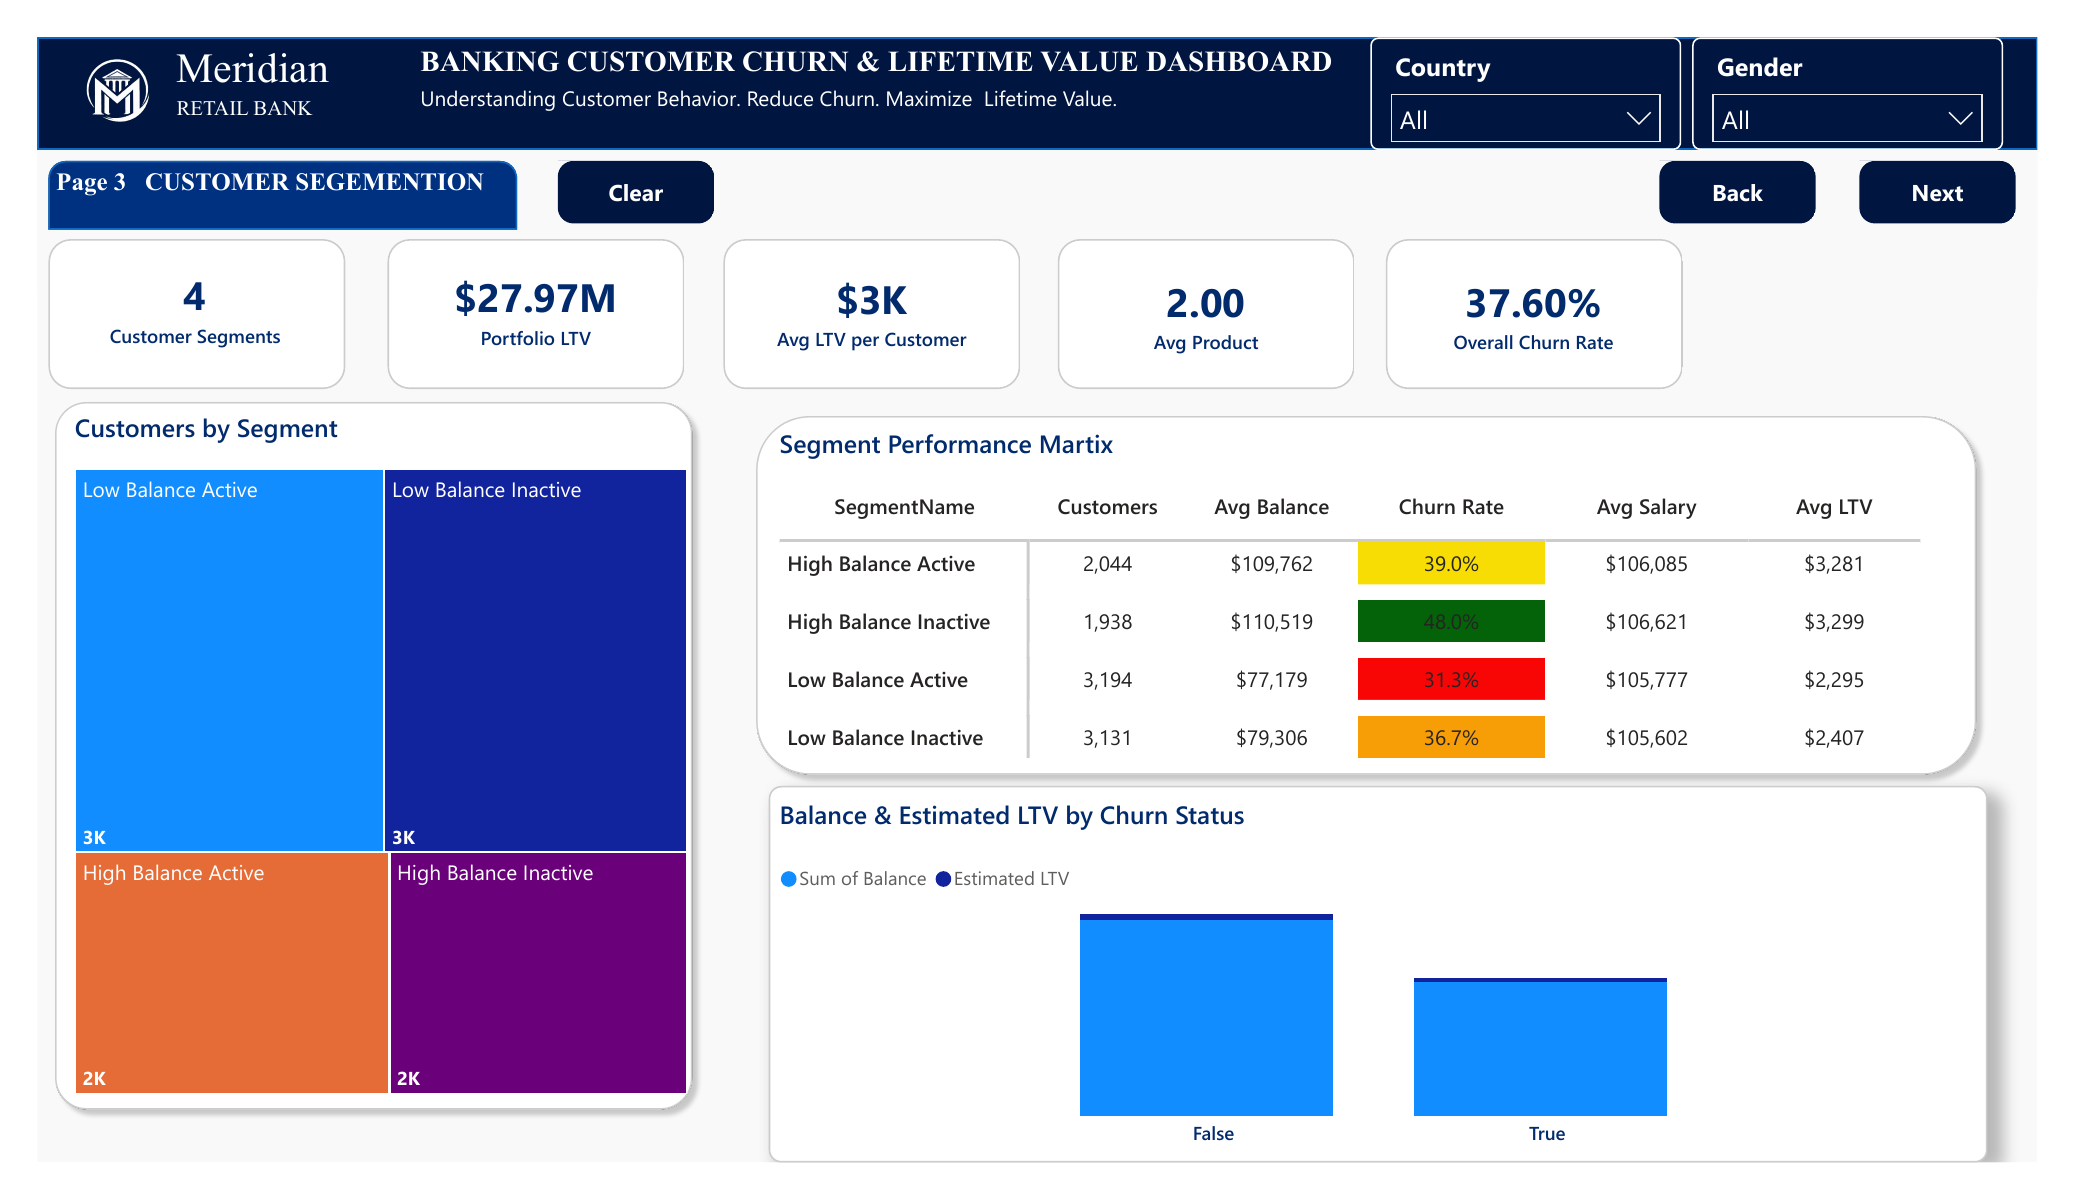

The page's visual inventory and layout, read from the dashboard file:
{"tool":"powerbi","page":{"name":"Customer Segemention ","canvas":[1280,720],"ordinal":2},"visuals":[{"type":"shape","box":[0,0,1279.7,720],"z":0},{"type":"shape","box":[3,225,424.5,469.3],"z":0,"group":"g4"},{"type":"shape","box":[452.2,233.7,797,246.3],"z":0,"group":"g5"},{"type":"shape","box":[468.1,479,780,240.9],"z":0,"group":"g3"},{"type":"shape","box":[0,0,1279.7,71.6],"z":1000},{"type":"lineStackedColumnComboChart","title":"Balance & Estimated LTV by  Churn Status","fields":{"Category":["FactCustomer.HasChurned"],"Y":["Sum(FactCustomer.Balance)","All Dax.Estimated LTV"]},"box":[469.8,481.7,779.1,238.2],"z":1000,"group":"g3"},{"type":"shape","box":[7.2,78.8,300,43.9],"z":2000},{"type":"shape","box":[7.2,128.9,189.9,95.8],"z":2001,"group":"g1"},{"type":"shape","box":[223.9,128.9,189.9,95.8],"z":2001,"group":"g2"},{"type":"cardVisual","fields":{"Data":["Count(DimSegment.SegmentName)"]},"box":[7.9,125,186.3,95.8],"z":2012,"group":"g1"},{"type":"cardVisual","fields":{"Data":["All Dax.Estimated LTV"]},"box":[226.7,126,184.5,95.8],"z":2012,"group":"g2"},{"type":"cardVisual","fields":{"Data":["All Dax.Churned"]},"box":[482.7,129,170.1,95.8],"z":3000},{"type":"cardVisual","fields":{"Data":["All Dax.Churned"]},"box":[482.7,129,170.1,95.8],"z":4000},{"type":"shape","box":[438.8,129,189.9,95.8],"z":5000},{"type":"shape","box":[652.8,129,189.9,95.8],"z":6000},{"type":"shape","box":[863.3,129,189.9,95.8],"z":7000},{"type":"group","id":"g1","title":"Group 1","box":[7.2,125,189.9,99.7],"z":8000},{"type":"group","id":"g2","title":"Group 1","box":[223.9,126,189.9,98.8],"z":9000},{"type":"cardVisual","fields":{"Data":["All Dax.Estimated LTV per Customer"]},"box":[438.8,127.2,189.9,95.8],"z":10000},{"type":"cardVisual","fields":{"Data":["Avg(DimProductBand.ProductBandID)"]},"box":[652.8,129,189.9,95.8],"z":11000},{"type":"cardVisual","fields":{"Data":["All Dax.Churn Rate"]},"box":[863.3,129,189,95.8],"z":12000},{"type":"group","id":"g3","title":"Group 2","box":[468.1,479,780.8,240.9],"z":13000},{"type":"textbox","box":[7.2,78.8,300,43.9],"z":14000},{"type":"textbox","box":[240,0,613.4,35.8],"z":17000},{"type":"textbox","box":[240,25.1,615.2,35.8],"z":18000},{"type":"image","box":[0,0,102.1,71.6],"z":19000},{"type":"textbox","box":[84.2,0,130.7,71.6],"z":20000},{"type":"actionButton","box":[1166,78.8,100,40],"z":21000},{"type":"actionButton","box":[333.1,78.8,100,40],"z":22000},{"type":"group","id":"g4","title":"Group 2","box":[3,225,424.5,469.3],"z":23000},{"type":"treemap","title":"Customers by Segment","fields":{"Group":["DimSegment.SegmentName"],"Values":["All Dax.Total Customers"]},"box":[18.8,233.7,402.1,447.8],"z":24000},{"type":"group","id":"g5","title":"Group 2","box":[452.2,233.7,797,246.3],"z":25000},{"type":"pivotTable","title":"Segment Performance Martix","fields":{"Rows":["DimSegment.SegmentName"],"Values":["All Dax.Total Customers","All Dax.Average Balance","All Dax.Churn Rate","All Dax.Average Estimated Salary","All Dax.Estimated LTV per Customer"]},"box":[470.1,243.6,761.2,225.7],"z":26000},{"type":"actionButton","box":[1037.9,78.8,100,40],"z":27000},{"type":"slicer","fields":{"Values":["DimGender.Gender"]},"box":[1058.9,0,199,71.7],"z":27001},{"type":"slicer","fields":{"Values":["DimGeography.Country"]},"box":[853.4,0,198.8,71.6],"z":27002}]}

Visuals, with their boxes on the page's 1280x720 design canvas (x1, y1, x2, y2). These are canvas units, not pixel positions in the 2075x1200 screenshot, which may show the page scaled, cropped or inside an application window:
shape: (0, 0, 1280, 720)
shape: (3, 225, 428, 694)
shape: (452, 234, 1249, 480)
shape: (468, 479, 1248, 720)
shape: (0, 0, 1280, 72)
"Balance & Estimated LTV by  Churn Status" lineStackedColumnComboChart: (470, 482, 1249, 720)
shape: (7, 79, 307, 123)
shape: (7, 129, 197, 225)
shape: (224, 129, 414, 225)
cardVisual - Count(DimSegment.SegmentName): (8, 125, 194, 221)
cardVisual - All Dax.Estimated LTV: (227, 126, 411, 222)
cardVisual - All Dax.Churned: (483, 129, 653, 225)
cardVisual - All Dax.Churned: (483, 129, 653, 225)
shape: (439, 129, 629, 225)
shape: (653, 129, 843, 225)
shape: (863, 129, 1053, 225)
"Group 1" group: (7, 125, 197, 225)
"Group 1" group: (224, 126, 414, 225)
cardVisual - All Dax.Estimated LTV per Customer: (439, 127, 629, 223)
cardVisual - Avg(DimProductBand.ProductBandID): (653, 129, 843, 225)
cardVisual - All Dax.Churn Rate: (863, 129, 1052, 225)
"Group 2" group: (468, 479, 1249, 720)
textbox: (7, 79, 307, 123)
textbox: (240, 0, 853, 36)
textbox: (240, 25, 855, 61)
image: (0, 0, 102, 72)
textbox: (84, 0, 215, 72)
actionButton: (1166, 79, 1266, 119)
actionButton: (333, 79, 433, 119)
"Group 2" group: (3, 225, 428, 694)
"Customers by Segment" treemap: (19, 234, 421, 682)
"Group 2" group: (452, 234, 1249, 480)
"Segment Performance Martix" pivotTable: (470, 244, 1231, 469)
actionButton: (1038, 79, 1138, 119)
slicer - DimGender.Gender: (1059, 0, 1258, 72)
slicer - DimGeography.Country: (853, 0, 1052, 72)
